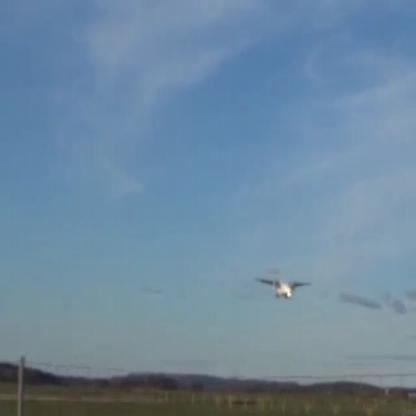CIV_Plane: (254, 278, 312, 300)
